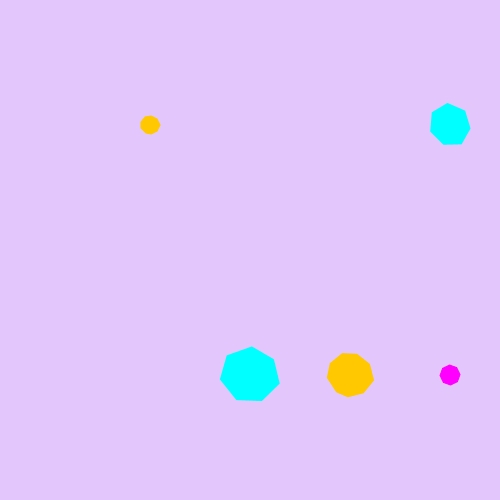heptagon: (218, 344, 283, 406), (425, 101, 475, 149)
nonagon: (323, 350, 377, 401), (136, 111, 165, 139)
octagon: (435, 360, 465, 390)
